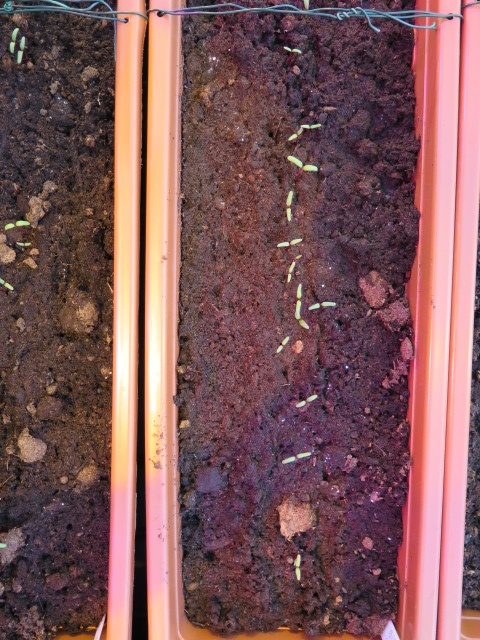crop: (289, 280, 314, 331), (282, 151, 322, 175), (290, 392, 324, 414), (278, 447, 315, 467), (1, 218, 36, 236), (273, 233, 306, 251), (304, 296, 340, 312), (14, 34, 30, 70), (283, 255, 303, 283), (272, 332, 292, 359), (283, 185, 295, 225), (291, 545, 302, 588), (279, 42, 305, 59), (6, 26, 21, 54), (1, 278, 21, 295), (9, 238, 37, 250), (282, 128, 312, 138), (302, 120, 328, 130)
